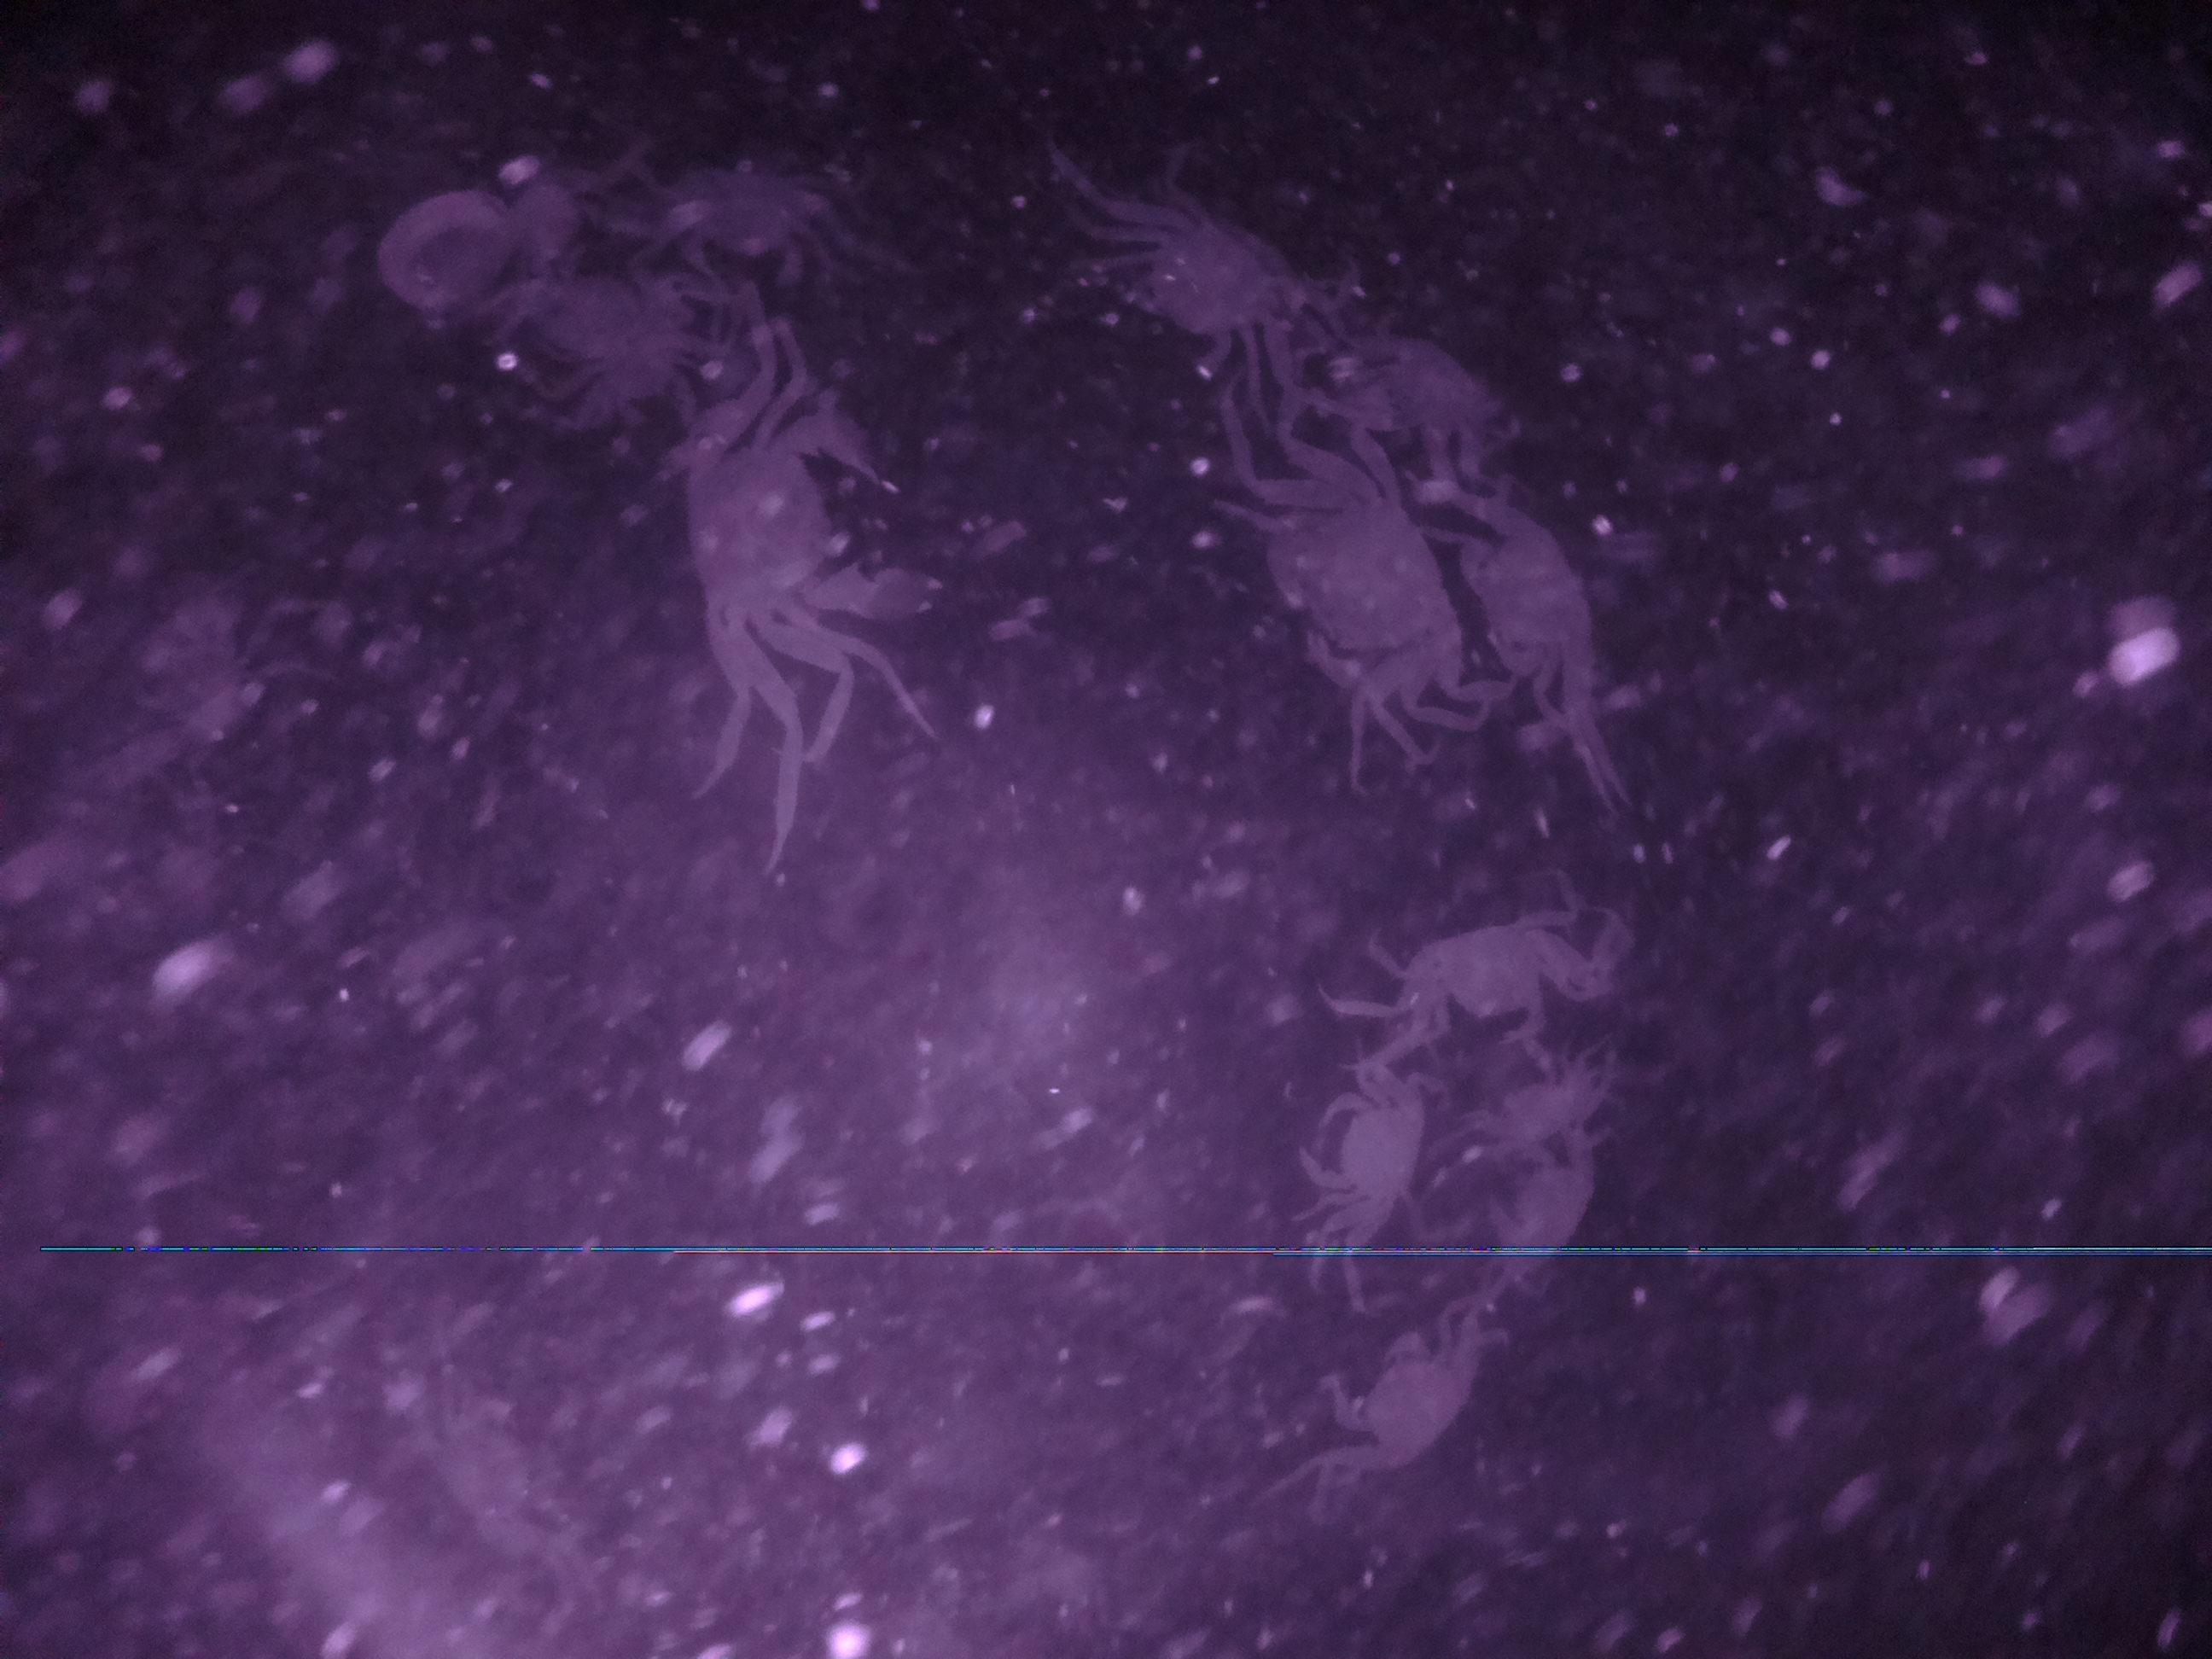Crab: (658, 382, 935, 653), (1254, 418, 1467, 728), (1097, 185, 1320, 371), (1468, 481, 1587, 758), (1393, 911, 1602, 1053), (1291, 1063, 1437, 1239), (1313, 1323, 1465, 1469)
